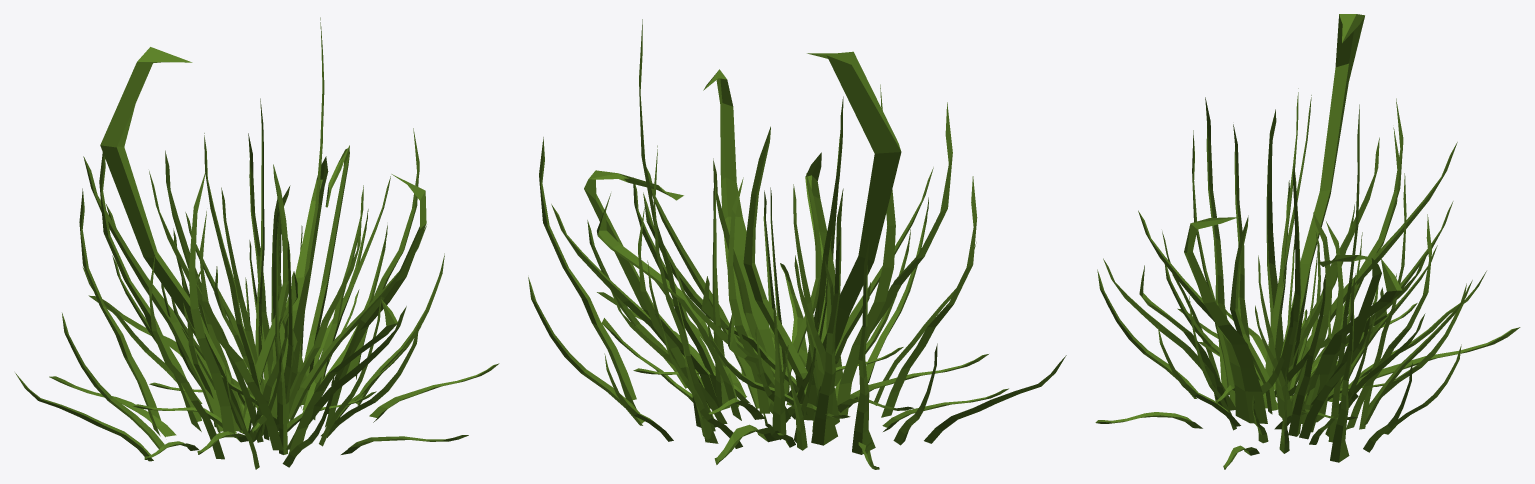
Rendered from wild-grasses-4.obj.
3 views of the same model, side by side, from view 1: azimuth 30°, elevation 25°; view 2: azimuth 150°, elevation 25°; view 3: azimuth 270°, elevation 25° (orthographic). The views are drawn at different scales.
Parts seen in each view (by area): view 1: Grass.Clump.Style_3; view 2: Grass.Clump.Style_3; view 3: Grass.Clump.Style_3.
Part boxes in pixels (x1,y1,x2,y2): Grass.Clump.Style_3: (15, 17, 499, 469); Grass.Clump.Style_3: (528, 19, 1066, 469); Grass.Clump.Style_3: (1095, 14, 1520, 469).
Bounding box in the file's own units: 0.9285 × 0.7381 × 0.777.
